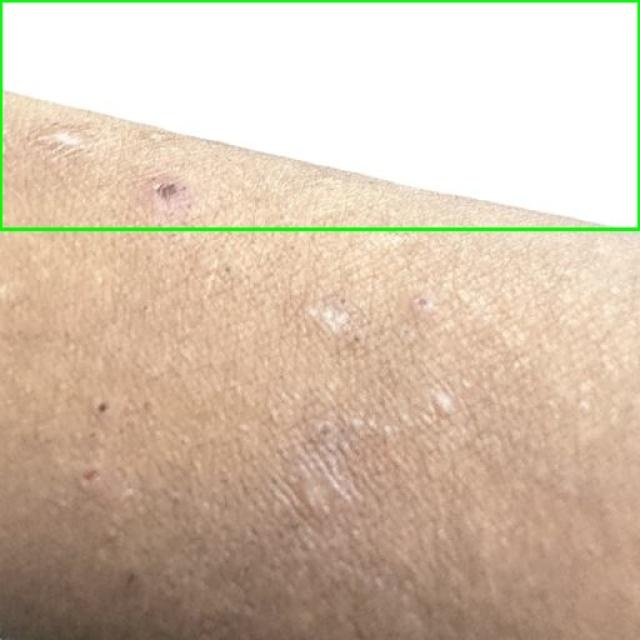Scabies: (0, 0, 639, 229)
